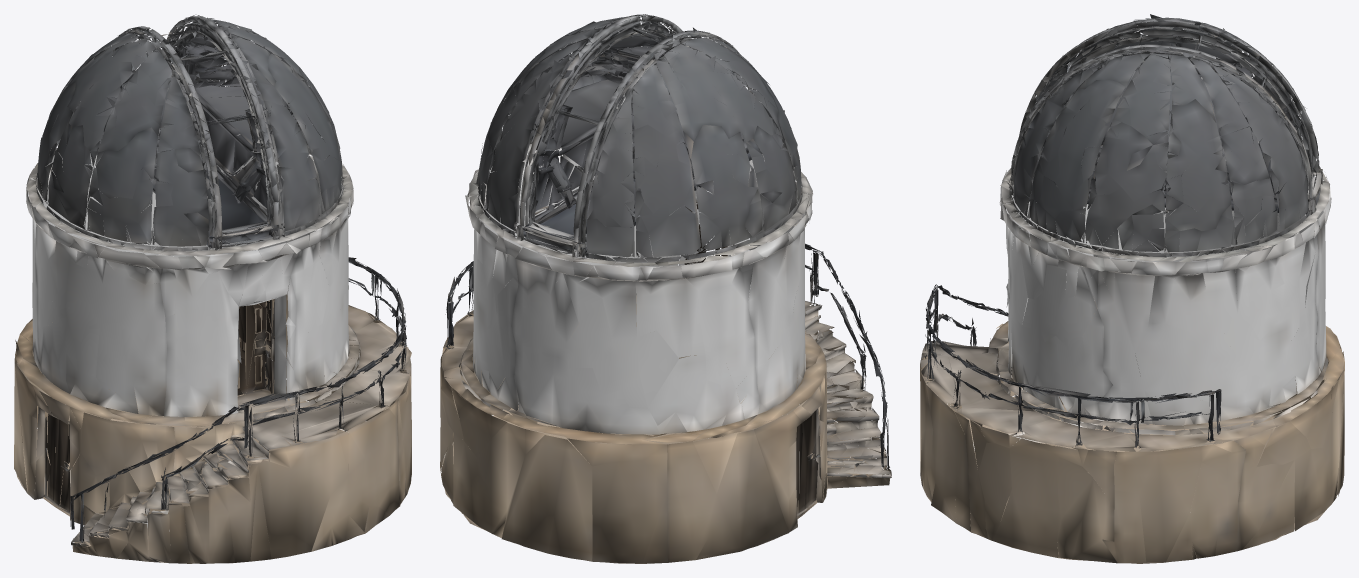
The model's file is observatory.glb.
3 renders of one model, left to right at view 1: azimuth 30°, elevation 25°; view 2: azimuth 150°, elevation 25°; view 3: azimuth 270°, elevation 25°, orthographic. The views are drawn at different scales.
Visible parts, largest first — view 1: LO.001; view 2: LO.001; view 3: LO.001.
Part boxes in pixels (x1,y1,x2,y2): LO.001: [14, 14, 411, 563]; LO.001: [440, 14, 891, 563]; LO.001: [920, 14, 1344, 563].
Size of the model in its own units: 1.65 by 1.91 by 1.66.
1 material, 1 textured.
